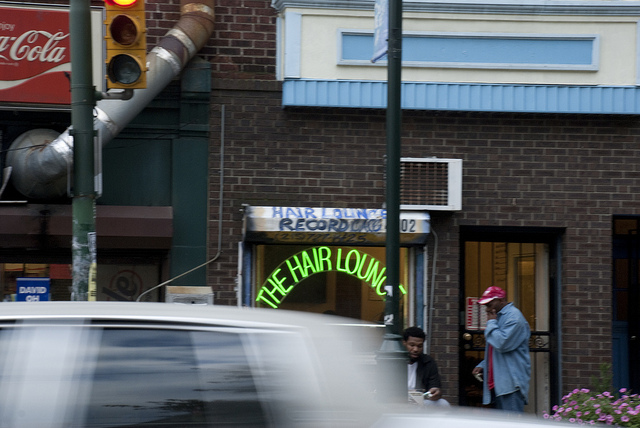Person: (475, 282, 537, 406), (405, 326, 450, 400)
